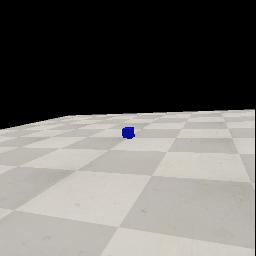box: (122, 127, 135, 139)
